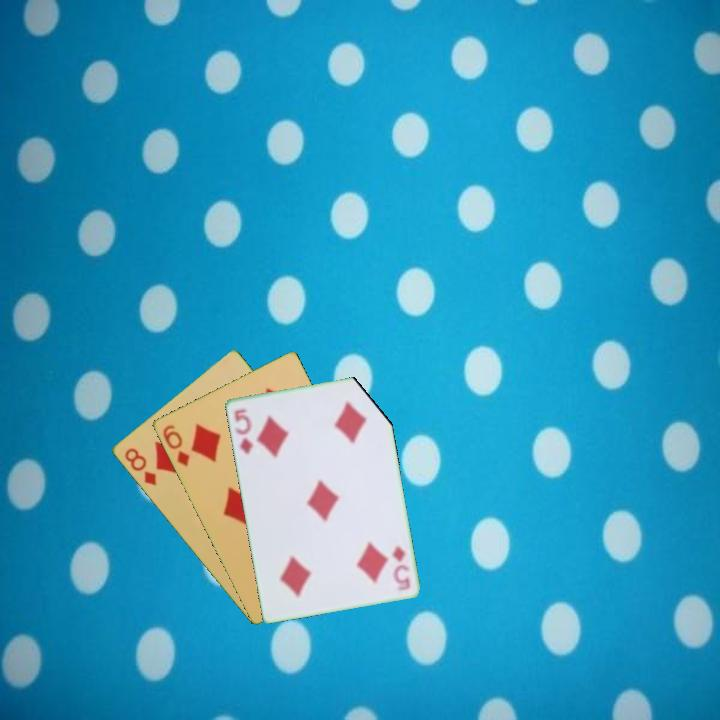5d: (231, 405, 256, 457), (388, 542, 413, 593)
6d: (159, 421, 193, 469)
8d: (120, 444, 159, 489)
